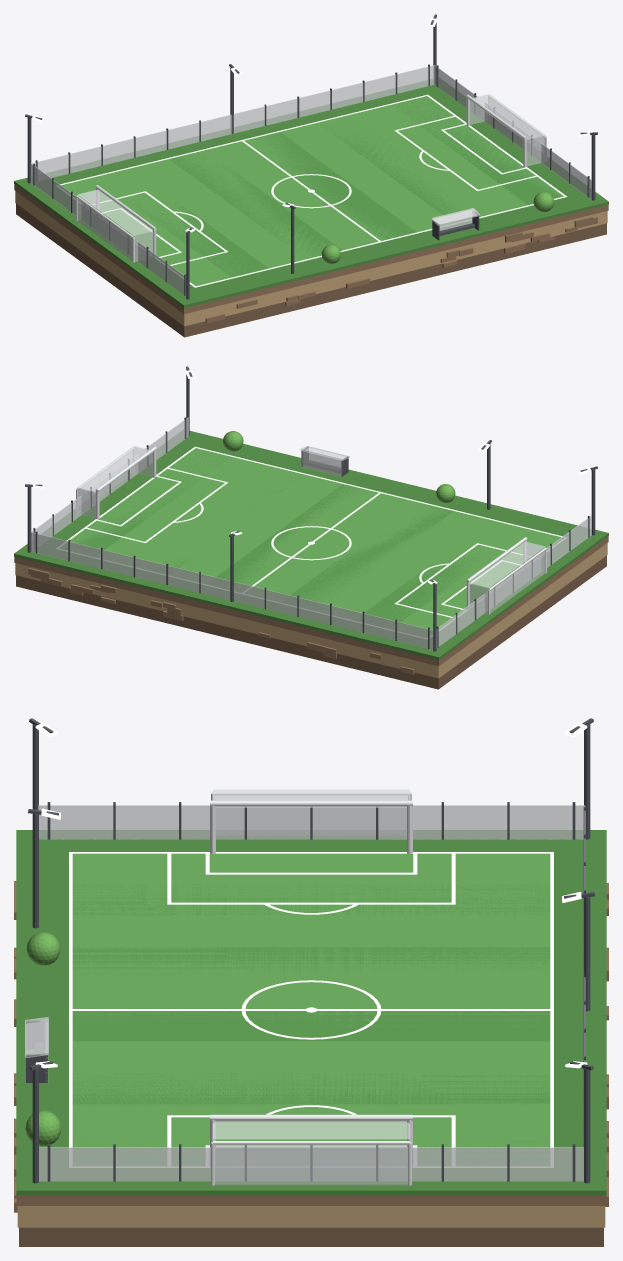
Rendered from soccer_stadium.glb.
The picture shows the model from 3 angles, top to bottom: view 1: azimuth 30°, elevation 25°; view 2: azimuth 150°, elevation 25°; view 3: azimuth 270°, elevation 25°; orthographic projection. The views are drawn at different scales.
Visible parts, largest first — view 1: Pitch_Base, Diorama_GrassTurf, Fence_North_Panel, Diorama_SoilMid, Diorama_SoilDeep, Pitch_Stripe_5, Pitch_Stripe_3, Pitch_Stripe_9, Diorama_SoilRim, Fence_West_Panel, Fence_East_Panel, Pitch_Stripe_1 (+8 smaller); view 2: Pitch_Base, Diorama_GrassTurf, Fence_North_Panel, Diorama_SoilMid, Diorama_SoilDeep, Diorama_SoilRim, Pitch_Stripe_3, Pitch_Stripe_9, Fence_West_Panel, Pitch_Stripe_1, Fence_East_Panel, Pitch_Stripe_5 (+5 smaller); view 3: Pitch_Base, Diorama_GrassTurf, Fence_East_Panel, Fence_West_Panel, Pitch_Stripe_5, Diorama_SoilMid, Diorama_SoilDeep, Pitch_Stripe_7, Pitch_Stripe_3, Goal_Red_NetBack, Pitch_Stripe_1, Diorama_SoilRim (+20 smaller).
Part boxes in pixels (<box>): Pitch_Base: <box>60,96,563,286</box>; Diorama_GrassTurf: <box>14,78,608,307</box>; Fence_North_Panel: <box>31,65,434,182</box>; Diorama_SoilMid: <box>15,191,607,326</box>; Diorama_SoilDeep: <box>16,203,606,337</box>; Pitch_Stripe_5: <box>255,132,416,240</box>; Pitch_Stripe_3: <box>169,152,342,258</box>; Pitch_Stripe_9: <box>392,96,560,204</box>; Diorama_SoilRim: <box>14,184,608,314</box>; Fence_West_Panel: <box>31,163,186,295</box>; Fence_East_Panel: <box>434,65,591,199</box>; Pitch_Stripe_1: <box>132,201,268,276</box>; Pitch_Base: <box>60,448,562,637</box>; Diorama_GrassTurf: <box>14,430,608,659</box>; Fence_North_Panel: <box>31,532,433,649</box>; Diorama_SoilMid: <box>15,543,607,678</box>; Diorama_SoilDeep: <box>16,555,606,689</box>; Diorama_SoilRim: <box>14,536,608,666</box>; Pitch_Stripe_3: <box>281,505,453,604</box>; Pitch_Stripe_9: <box>65,448,229,556</box>; Fence_West_Panel: <box>436,515,591,647</box>; Pitch_Stripe_1: <box>355,552,484,628</box>; Fence_East_Panel: <box>31,417,188,550</box>; Pitch_Stripe_5: <box>207,484,363,589</box>; Pitch_Base: <box>72,853,550,1165</box>; Diorama_GrassTurf: <box>16,830,606,1195</box>; Fence_East_Panel: <box>39,1147,583,1181</box>; Fence_West_Panel: <box>38,805,584,839</box>; Pitch_Stripe_5: <box>72,1011,550,1041</box>; Diorama_SoilMid: <box>17,1206,605,1227</box>; Diorama_SoilDeep: <box>19,1227,603,1246</box>; Pitch_Stripe_7: <box>72,1073,550,1104</box>; Pitch_Stripe_3: <box>72,947,550,978</box>; Goal_Red_NetBack: <box>215,1144,407,1185</box>; Pitch_Stripe_1: <box>72,884,550,915</box>; Diorama_SoilRim: <box>16,1195,606,1205</box>.
Size of the model in its own units: 78 by 17.65 by 54.4.
